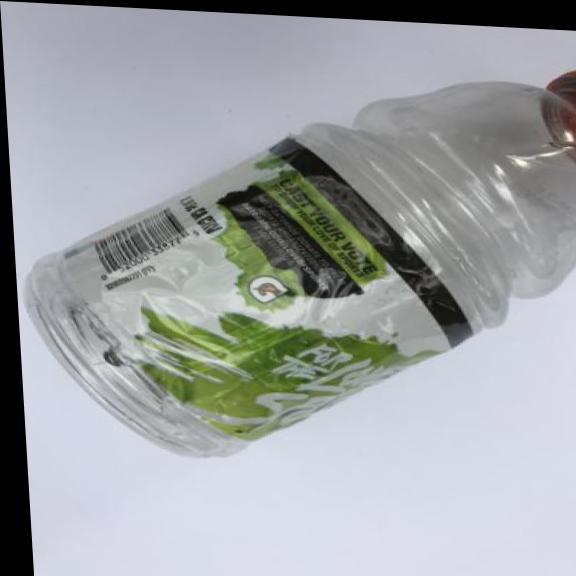Plastik: (2, 35, 576, 481)
